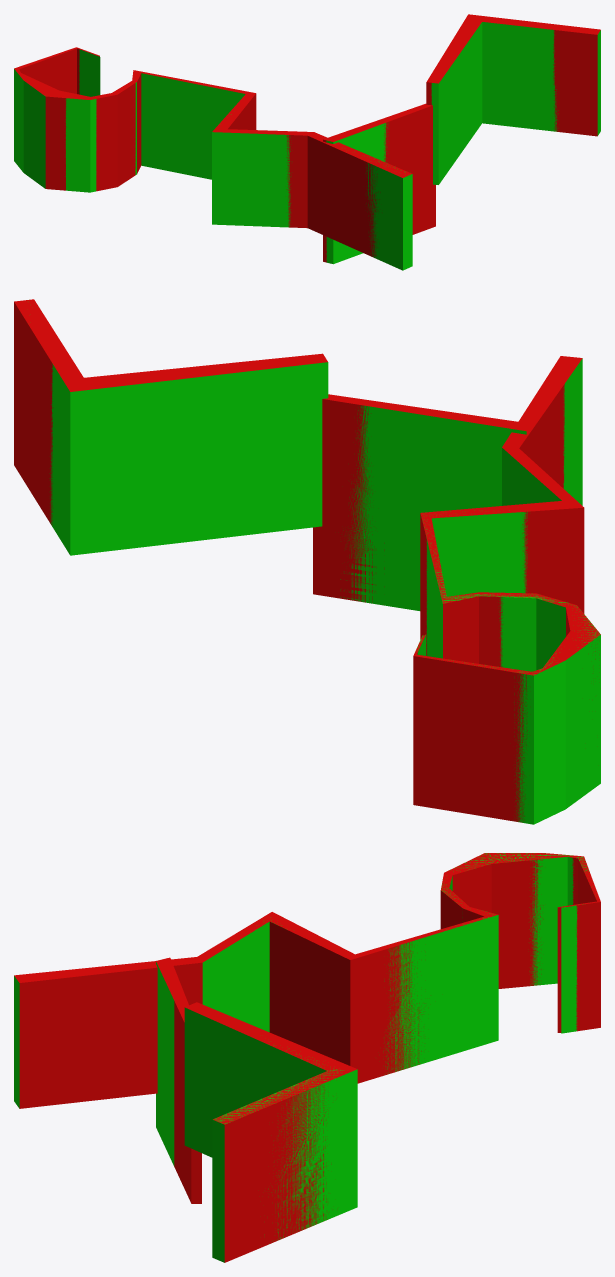
The model's file is InvisibleWall_019.fbx.
3 renders of one model, top to bottom at view 1: azimuth 30°, elevation 25°; view 2: azimuth 150°, elevation 25°; view 3: azimuth 270°, elevation 25°, orthographic. The views are drawn at different scales.
Parts seen in each view (by area): view 1: InvisibleWall_019_Phys, Designer234, Designer236, Designer235; view 2: InvisibleWall_019_Phys, Designer236, Designer234, Designer235; view 3: InvisibleWall_019_Phys, Designer234, Designer236, Designer235.
Part boxes in pixels (x1,y1,x2,y2): InvisibleWall_019_Phys: (14, 14, 600, 262); Designer234: (14, 49, 412, 270); Designer236: (431, 22, 600, 184); Designer235: (325, 123, 387, 264); InvisibleWall_019_Phys: (14, 299, 600, 822); Designer236: (49, 362, 328, 555); Designer234: (417, 358, 600, 824); Designer235: (340, 405, 526, 610); InvisibleWall_019_Phys: (14, 853, 600, 1262); Designer234: (14, 853, 592, 1108); Designer236: (184, 1007, 357, 1262); Designer235: (156, 962, 174, 1166).
Bounding box in the file's own units: 7130 × 2143 × 5795.
